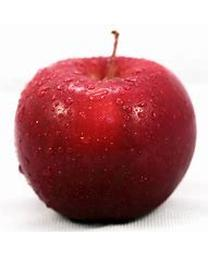apple: (13, 54, 196, 223)
